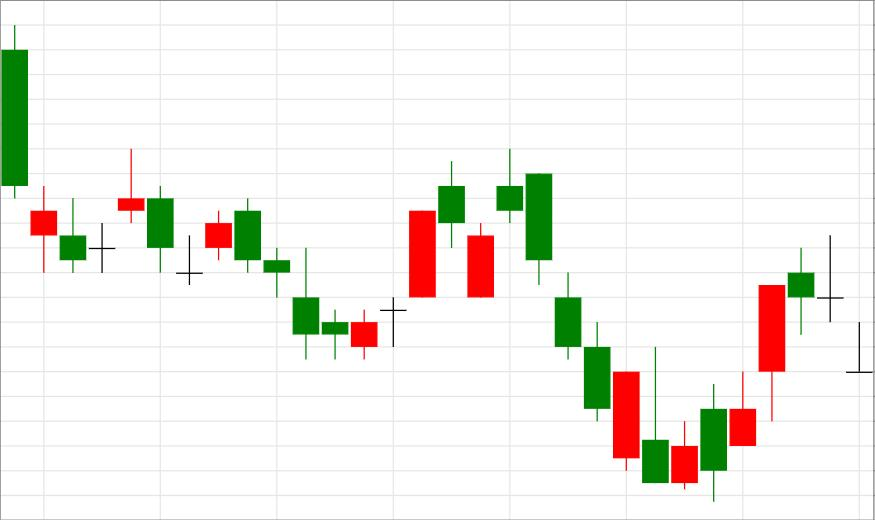inverse_hammer_rise: (497, 148, 668, 482)
